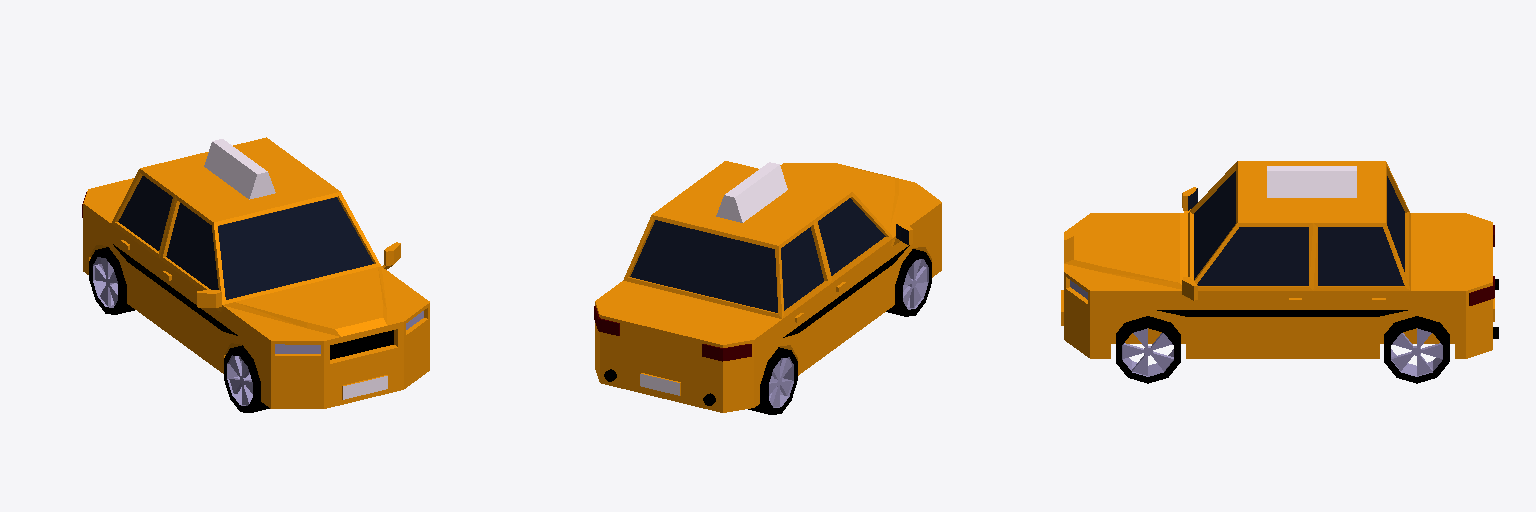
File: taxi.obj
The picture shows the model from 3 angles: view 1: azimuth 30°, elevation 25°; view 2: azimuth 150°, elevation 25°; view 3: azimuth 270°, elevation 25°; orthographic projection.
Visible parts, largest first — view 1: Taxi; view 2: Taxi; view 3: Taxi.
Part boxes in pixels (left/top/right/bottom): Taxi: left=82, top=137, right=429, bottom=412; Taxi: left=594, top=161, right=941, bottom=414; Taxi: left=1061, top=161, right=1498, bottom=383.
Bounding box in the file's own units: 2.81 × 2.32 × 5.23.